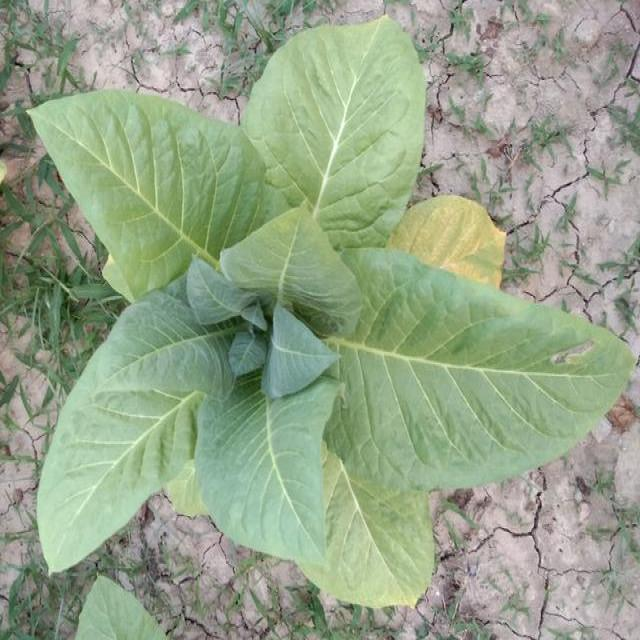crop: (35, 15, 628, 598)
